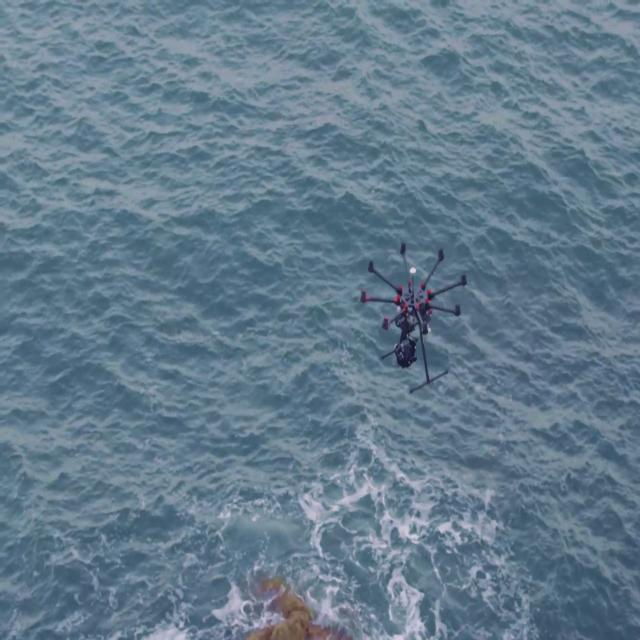drone: (355, 234, 487, 398)
